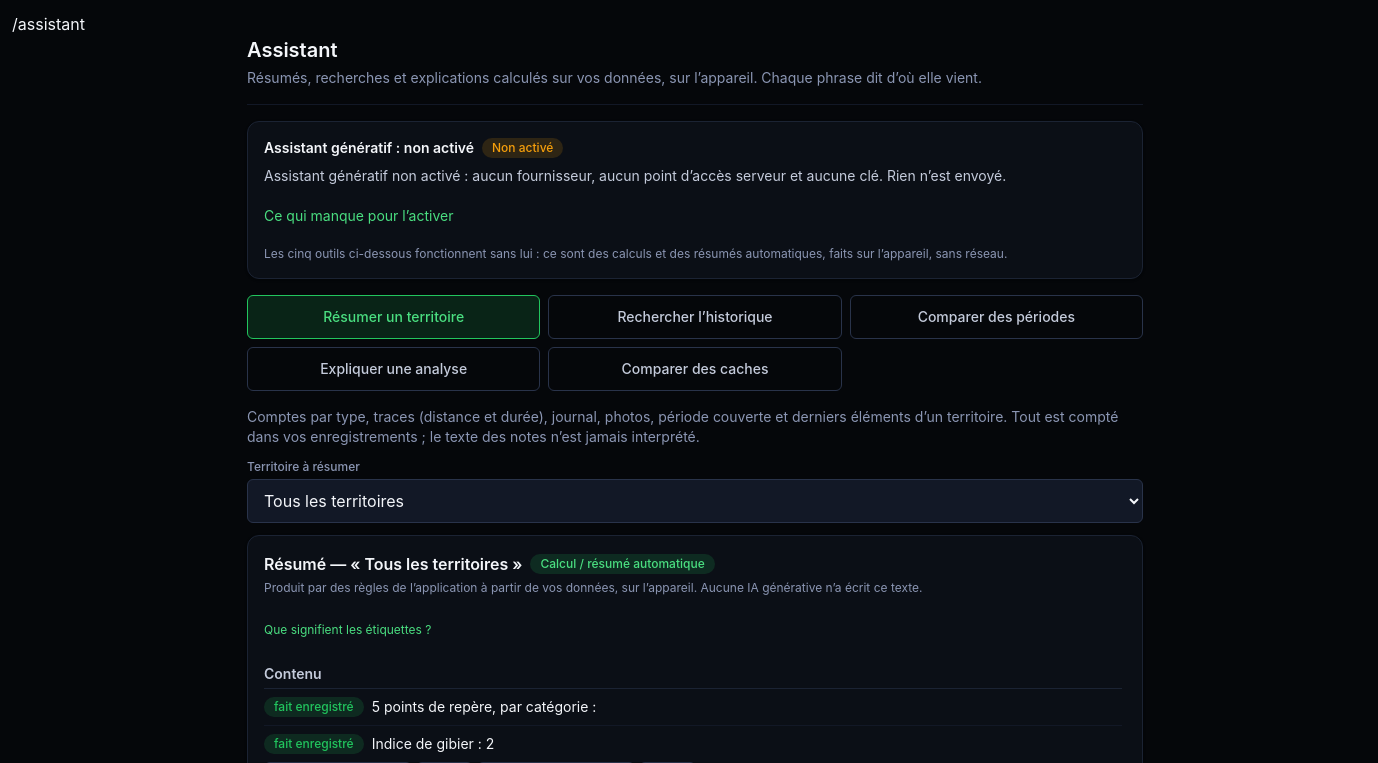
AssistantPage — résumé de territoire › résume tous les territoires puis un seul, avec des liens vers les éléments
The image size is (1378, 763).
Expected: the text "Calcul / résumé automatique" is shown, [530,554,715,574]
Expected: the text "5 points de repère, par catégorie :" is shown, [372,697,596,717]
Select "Secteur nord" in the dropdown labelled "Territoire à résumer" at (695, 501), box [247,479,1143,523]
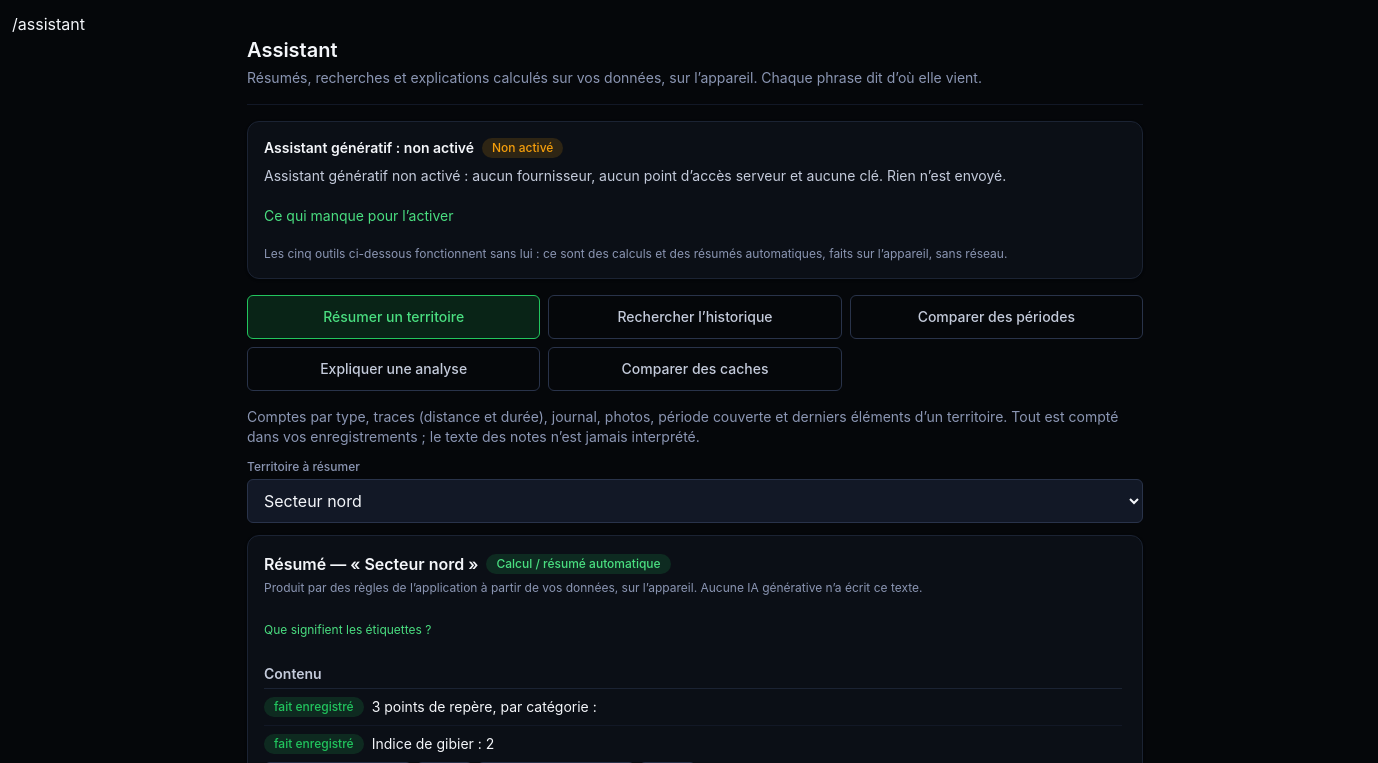
Now the text "3 points de repère, par catégorie :" is shown, box [372,697,597,717]
